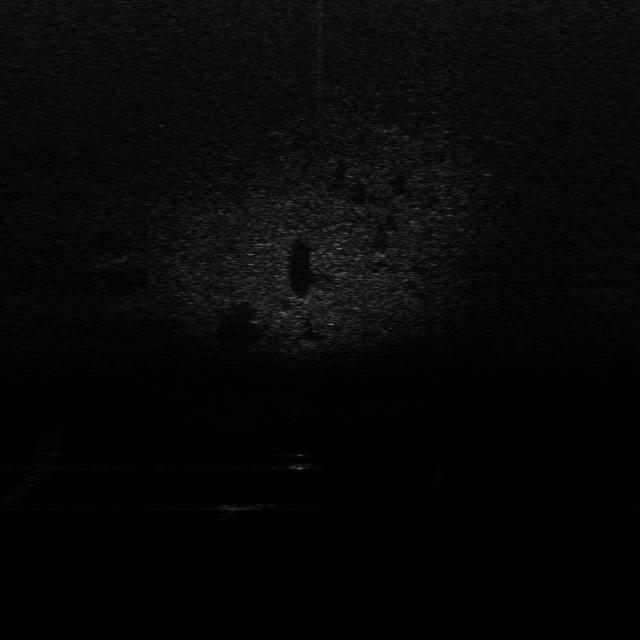ball: (287, 452, 313, 473)
square cage: (218, 495, 262, 515)
